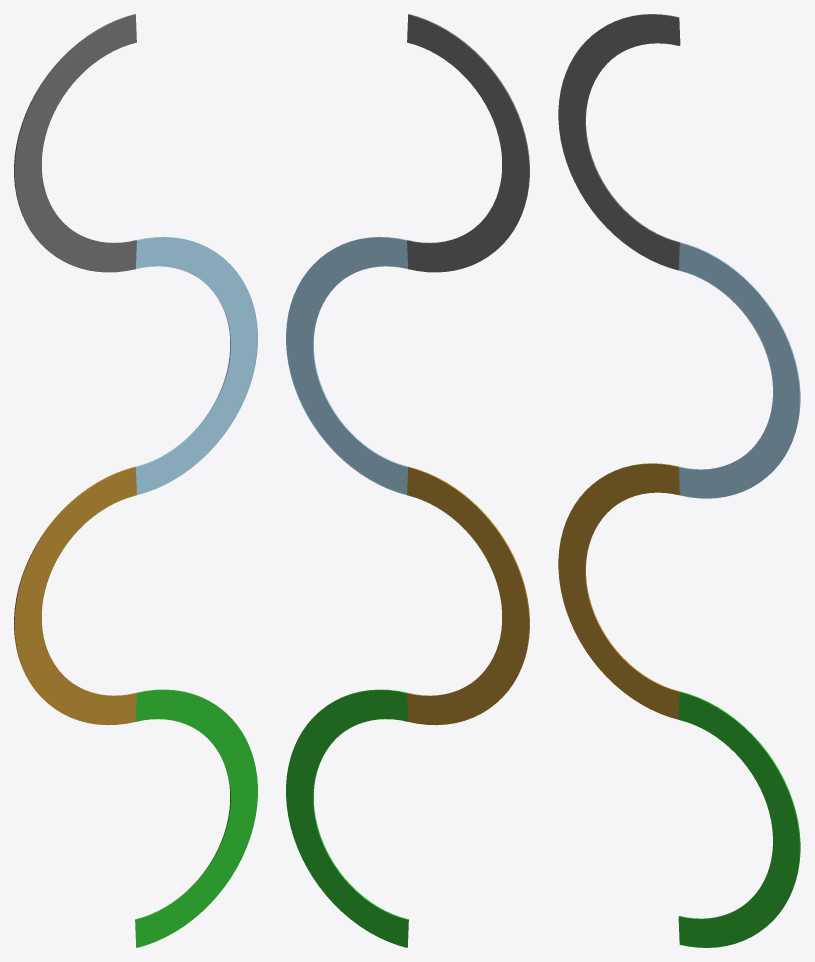
Rendered from adaptive_terrain_continuous_s_curves_varying.obj.
The picture shows the model from 3 angles, left to right: view 1: azimuth 30°, elevation 25°; view 2: azimuth 150°, elevation 25°; view 3: azimuth 330°, elevation 25°; orthographic projection.
Bounding box in the file's own units: 17.99 × 66 × 0.1.
